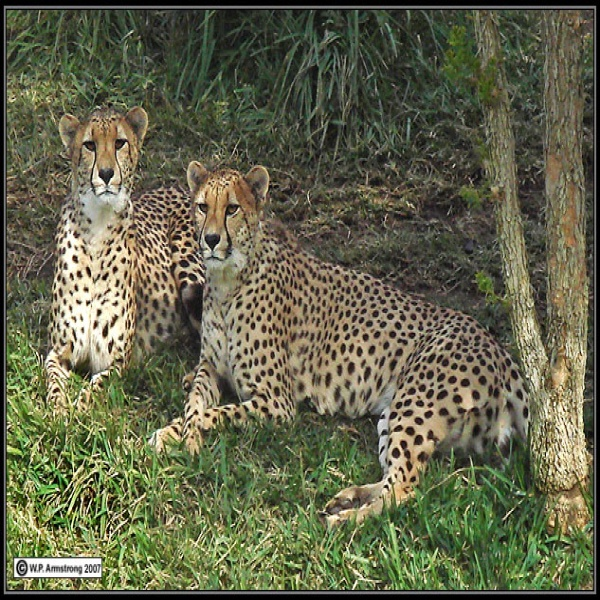Cheetah: (177, 156, 537, 533), (44, 97, 208, 412)
